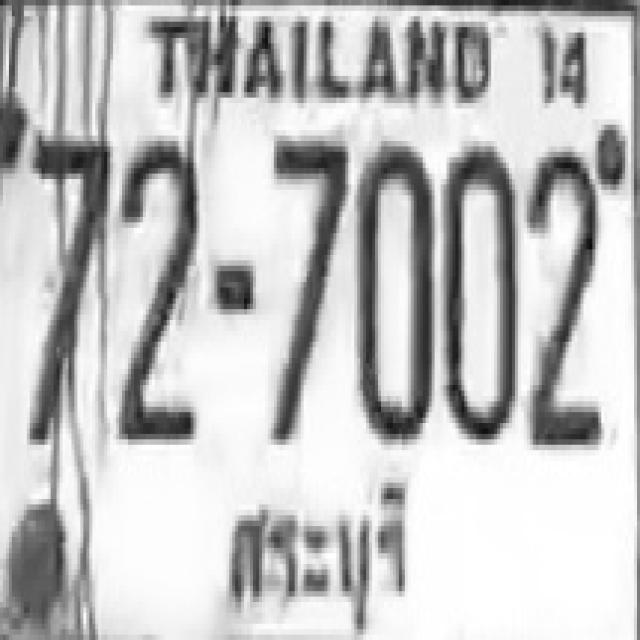0: (354, 133, 432, 436), (441, 138, 515, 437)
2: (115, 130, 198, 439), (524, 144, 598, 442)
7: (27, 125, 110, 439), (269, 130, 344, 439)
SRI: (218, 475, 412, 623)
